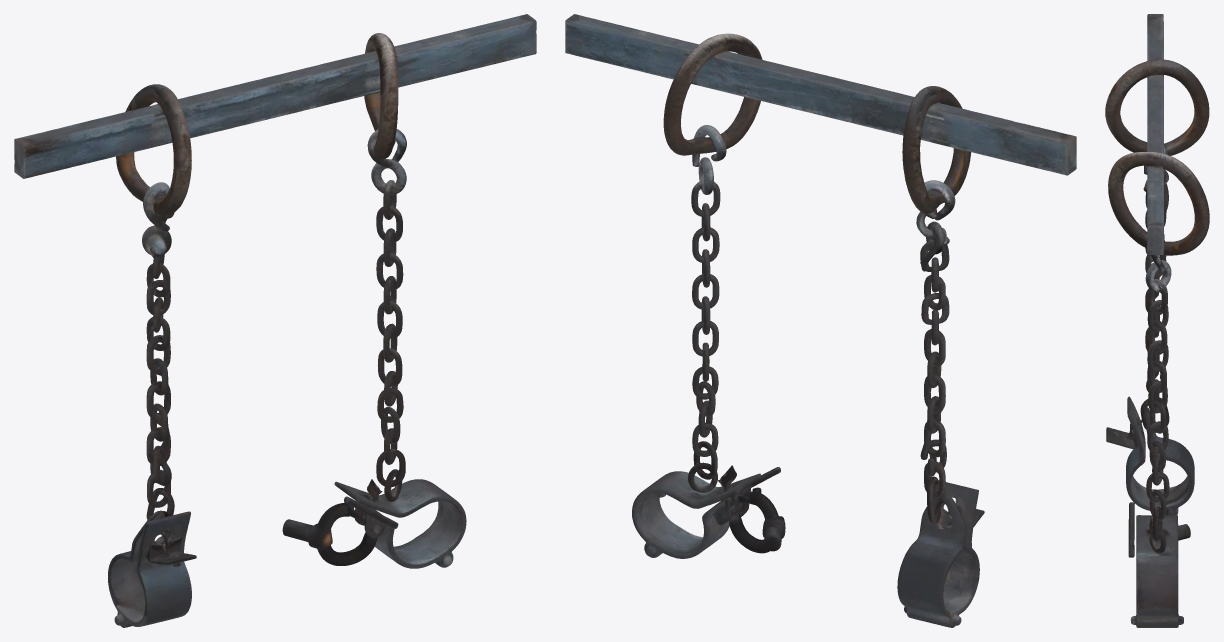
The model's file is shackles.glb.
3 views of the same model, side by side, from view 1: azimuth 30°, elevation 25°; view 2: azimuth 150°, elevation 25°; view 3: azimuth 270°, elevation 25° (orthographic). The views are drawn at different scales.
Size of the model in its own units: 1.9 by 1.9 by 0.3949.
1 material, 1 textured.
